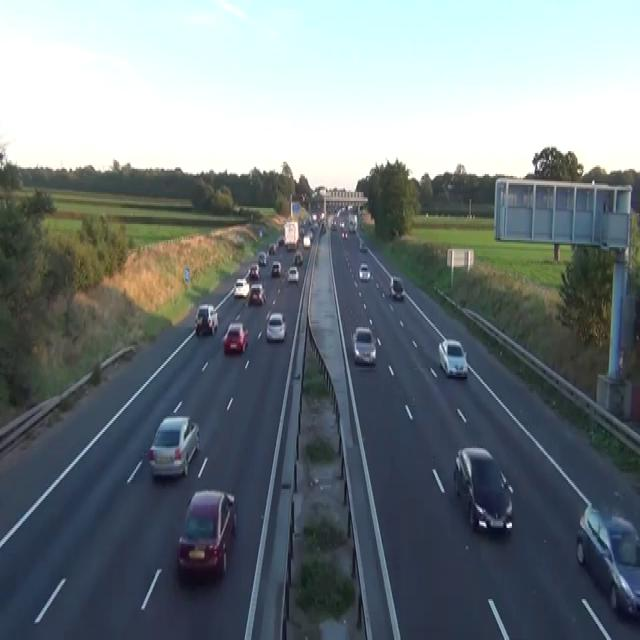Car: (575, 501, 639, 619), (176, 489, 236, 581), (453, 446, 513, 535), (148, 414, 200, 478), (438, 338, 468, 378), (351, 326, 376, 364), (222, 322, 248, 354), (194, 304, 218, 336), (265, 311, 286, 341), (248, 283, 266, 304), (389, 276, 404, 298), (233, 277, 249, 297), (358, 263, 371, 281), (287, 265, 299, 283), (249, 263, 260, 279), (271, 260, 281, 276), (294, 251, 303, 265), (258, 251, 267, 265), (286, 240, 296, 251), (244, 268, 252, 281), (302, 235, 310, 247), (268, 242, 276, 254), (359, 240, 367, 251), (308, 228, 314, 240), (277, 235, 284, 245), (339, 220, 345, 230), (446, 182, 453, 190), (312, 212, 317, 222), (299, 226, 304, 236), (341, 230, 347, 238), (330, 222, 336, 230), (321, 224, 326, 233), (320, 212, 324, 220), (259, 228, 262, 236)
Truck: (283, 220, 298, 250), (348, 213, 357, 233)
